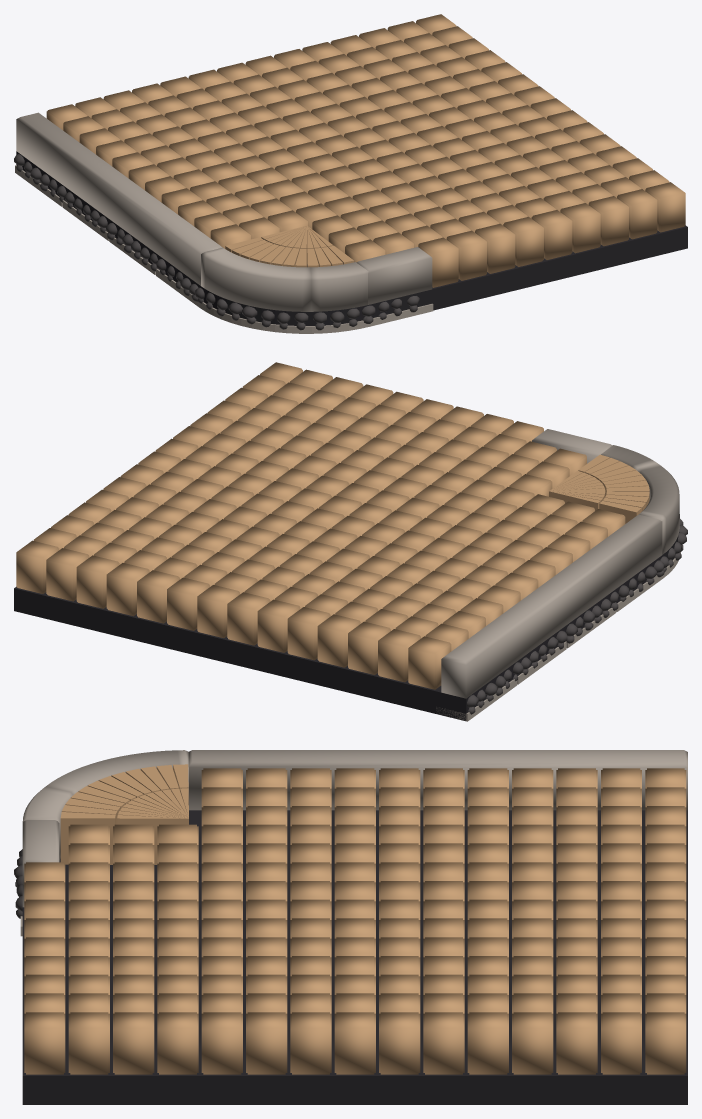
The model's file is 22-sidewalk-curb.glb.
3 views of the same model, one above another, from view 1: azimuth 30°, elevation 25°; view 2: azimuth 150°, elevation 25°; view 3: azimuth 270°, elevation 25° (orthographic). The views are drawn at different scales.
Parts seen in each view (by area): view 1: pavers, curb, base, cobbles, fan, footing; view 2: pavers, curb, base, fan, cobbles, footing; view 3: pavers, base, curb, fan.
Boxes of the visible parts, <box> form: pavers: <box>46,14,685,287</box>; curb: <box>16,112,432,311</box>; base: <box>16,151,687,325</box>; cobbles: <box>14,154,419,330</box>; fan: <box>225,225,353,267</box>; footing: <box>15,165,433,333</box>; pavers: <box>16,362,625,689</box>; curb: <box>441,429,679,698</box>; base: <box>14,532,679,721</box>; fan: <box>549,454,649,523</box>; cobbles: <box>467,514,687,714</box>; footing: <box>436,552,680,721</box>; pavers: <box>24,768,686,1074</box>; base: <box>22,810,687,1104</box>; curb: <box>22,750,687,907</box>; fan: <box>60,764,188,864</box>.
Size of the model in its own units: 1.02 by 0.125 by 1.01.
